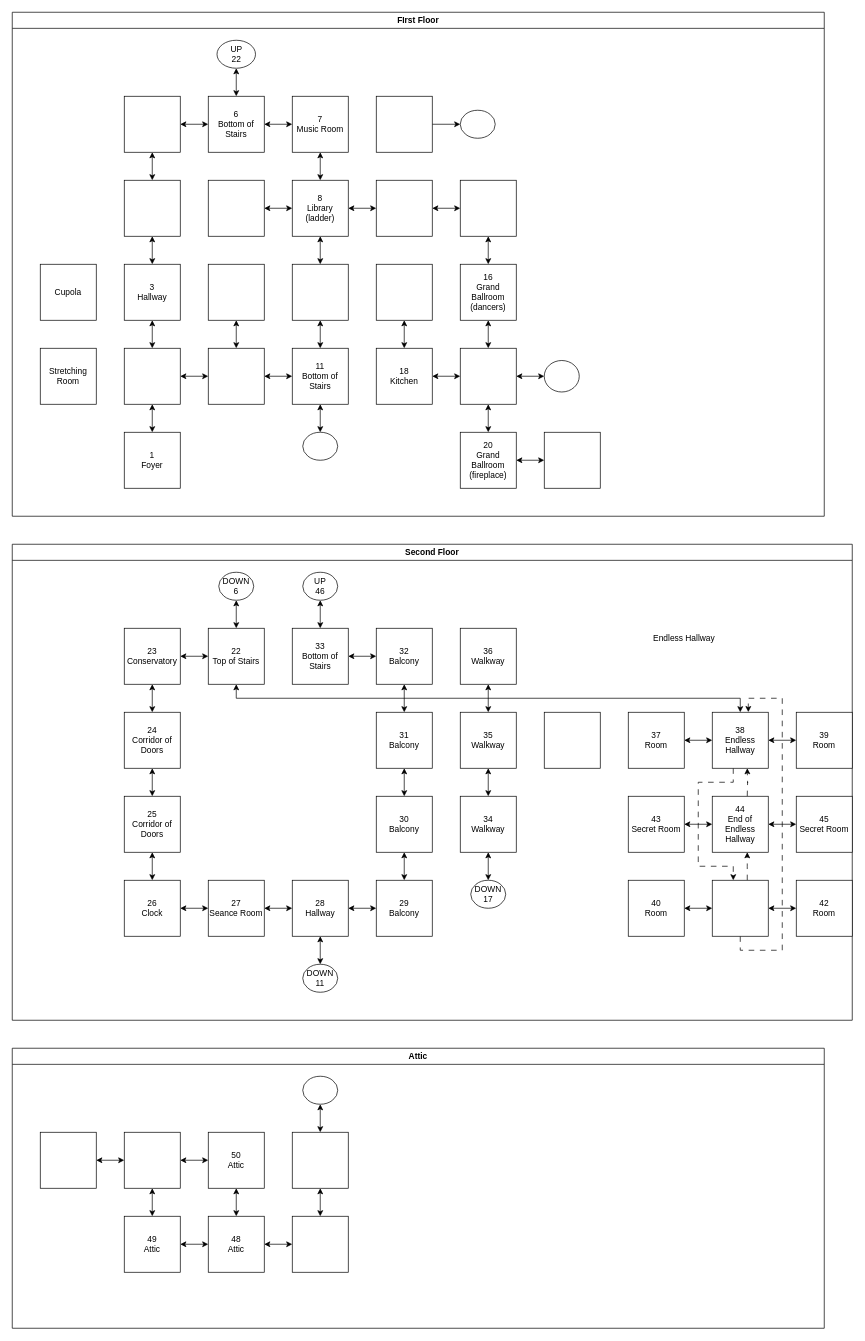
The diagram is 865 pixels wide and 1341 high, and some of its shapes have lost their labels. Here are the shapes that lost their labels. From the top down, the centre of each, then its label:
At point (152, 124): "5 Marble Busts".
At point (404, 124): "Bookshelves".
At point (477, 124): "DOWN 9".
At point (152, 208): "4 Hallway".
At point (236, 208): "9 Library (table/chair)".
At point (404, 208): "14 Hallway".
At point (488, 208): "15 Grand Ballroom (pipe organ)".
At point (236, 292): "13 Servant's Quarters".
At point (320, 292): "10 Portrait Corridor".
At point (404, 292): "19 Kitchen".
At point (152, 376): "2 Gallery".
At point (236, 376): "12 Hallway".
At point (488, 376): "17 Grand Ballroom (table)".
At point (561, 376): "UP 34".
At point (320, 446): "UP 28".
At point (572, 460): "21 Outside".
At point (572, 740): "Alcove (Christmas)".
At point (740, 908): "41 Endless Hallway".
At point (320, 1090): "DOWN 33".
At point (68, 1160): "52 Ledge".
At point (152, 1160): "51 Attic".
At point (320, 1160): "46 Stop of Stairs".
At point (320, 1244): "47 Attic".
